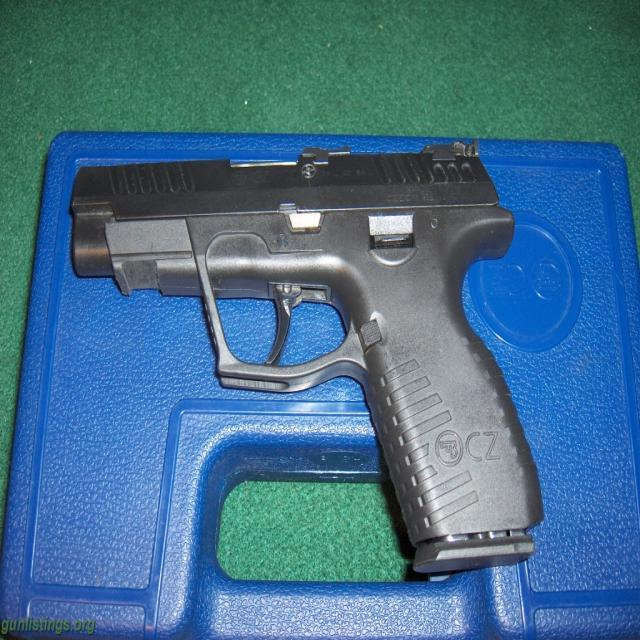Pistol: (66, 142, 559, 589)
